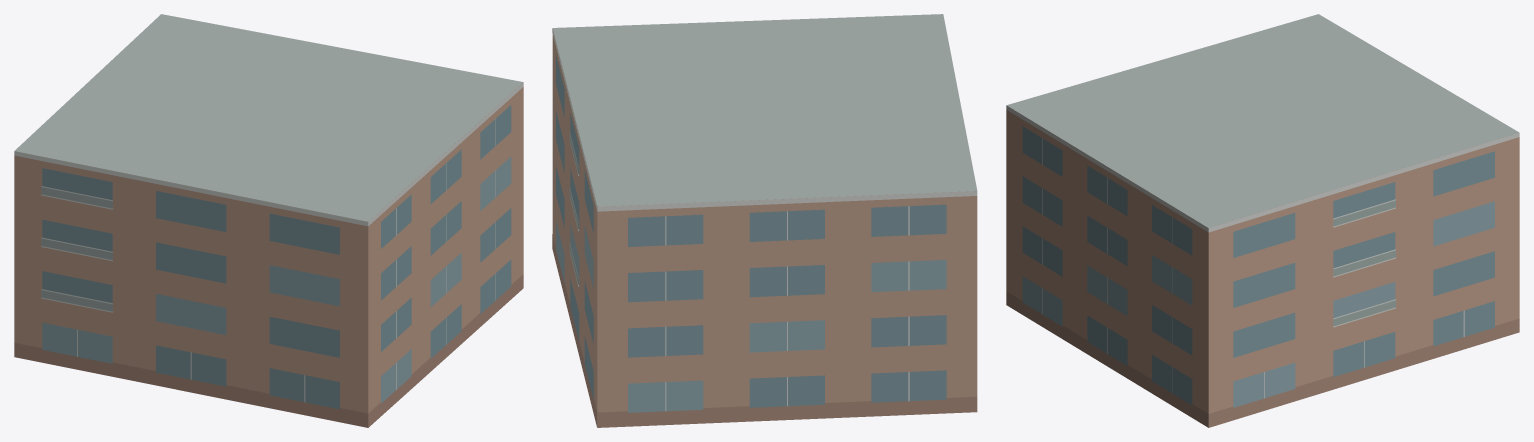
The model's file is survey-upis-32631157.glb.
The picture shows the model from 3 angles, left to right: view 1: azimuth 30°, elevation 25°; view 2: azimuth 150°, elevation 25°; view 3: azimuth 270°, elevation 25°; orthographic projection. The views are drawn at different scales.
Visible parts, largest first — view 1: survey-upis-32631157.tmp; view 2: survey-upis-32631157.tmp; view 3: survey-upis-32631157.tmp.
Boxes of the visible parts, box(x1,y1,x2,y2) form: survey-upis-32631157.tmp: box(14, 14, 523, 427); survey-upis-32631157.tmp: box(552, 14, 977, 427); survey-upis-32631157.tmp: box(1006, 14, 1519, 427).
Size of the model in its own units: 25.65 by 11.15 by 25.98.
